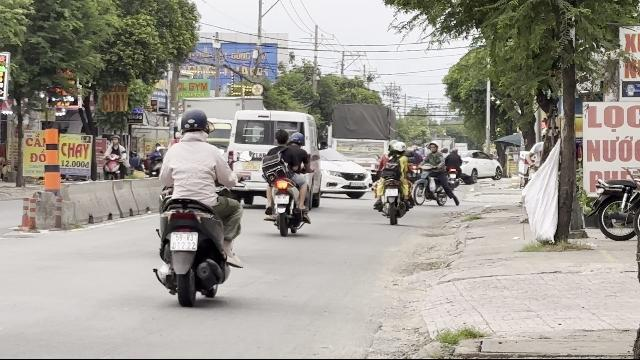helmet: (178, 108, 210, 140), (288, 131, 304, 146)
licenseplate: (171, 232, 197, 250), (275, 195, 289, 204)
motorcyclist: (149, 105, 245, 306), (260, 128, 312, 236)
nohelmet: (274, 128, 290, 148)
